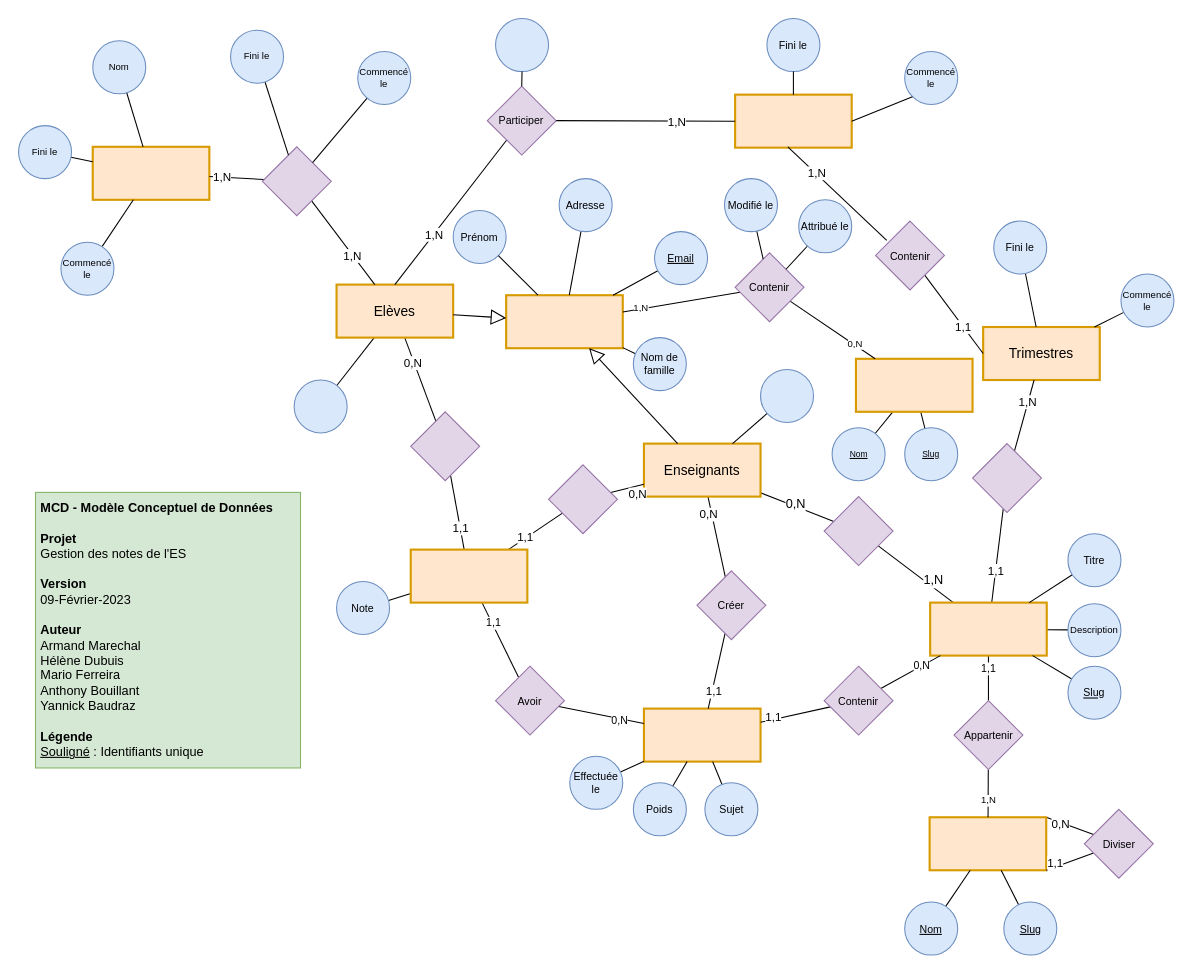
Some shapes in this 1192 by 974 pixel diagram are drawn without their labels. The shapes that lost their labels are listed below. From the top down, each one's box as (x1, y1, x2, y2) in pixels, then its label:
(494, 17, 549, 72): Conditionnel
(734, 93, 852, 148): Semestres
(91, 145, 210, 200): Classes
(261, 146, 331, 216): Appertenir
(505, 294, 623, 349): Personnes
(759, 368, 814, 422): Accronyme
(854, 357, 973, 412): Roles
(293, 379, 347, 433): Date de naissance
(410, 411, 480, 481): Recevoir
(971, 443, 1041, 513): Se passer
(547, 464, 617, 534): Attribuer
(823, 496, 893, 566): Enseigner
(409, 548, 528, 603): Evaluations
(929, 601, 1047, 656): Cours
(642, 707, 761, 762): Epreuves
(928, 816, 1047, 871): Catégories
